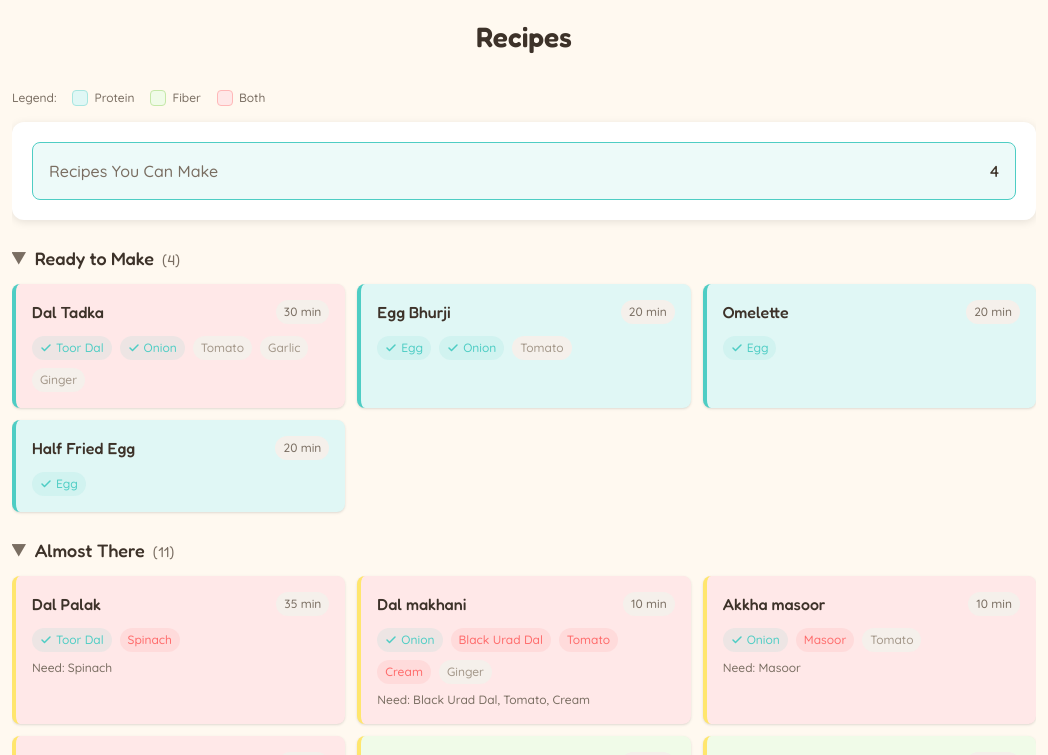
Scenario: RecipeSection › collapses section when header is clicked
Step 1. Click the button "▶ Ready to Make(4)" → (94, 258), box [12,244,1036,272]
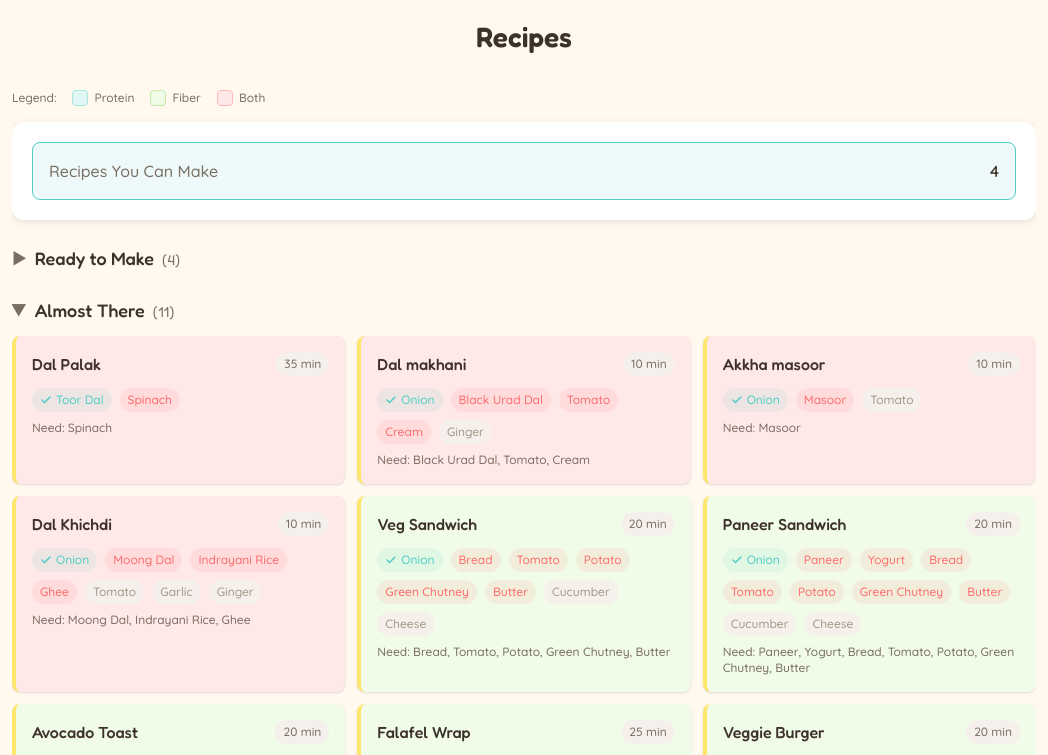
Expected: the button "▶ Ready to Make(4)" is collapsed, [12,244,1036,272]
